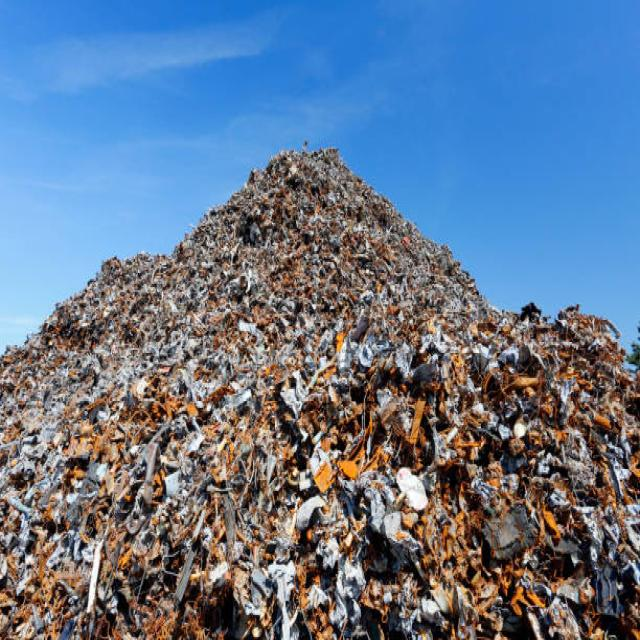trash: (5, 152, 640, 620)
